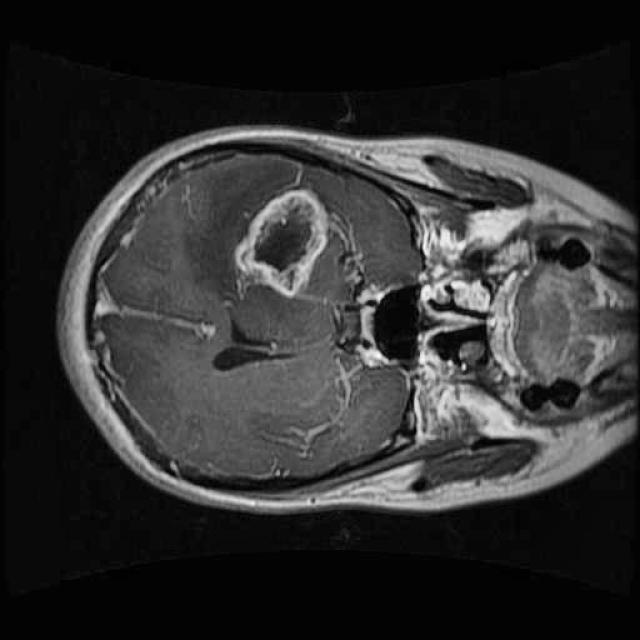Tumor: (226, 175, 338, 307)
